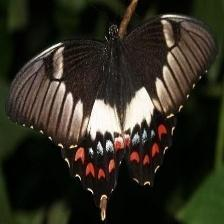butterfly: (8, 15, 217, 222)
